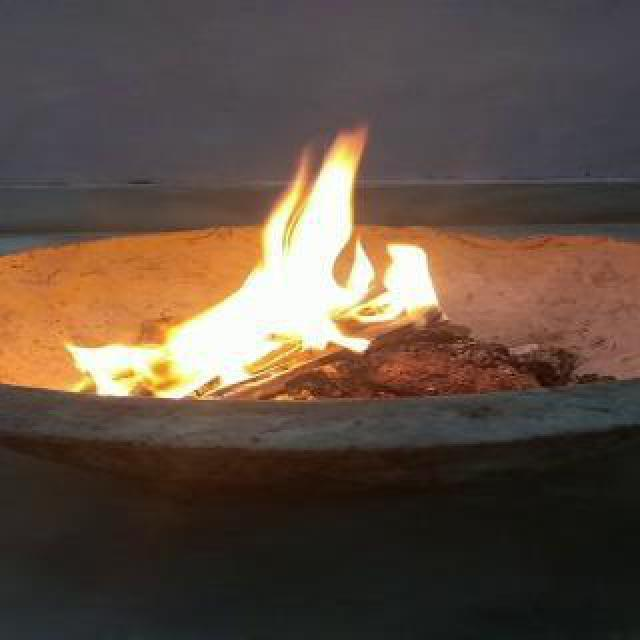Fire: (82, 126, 436, 400)
